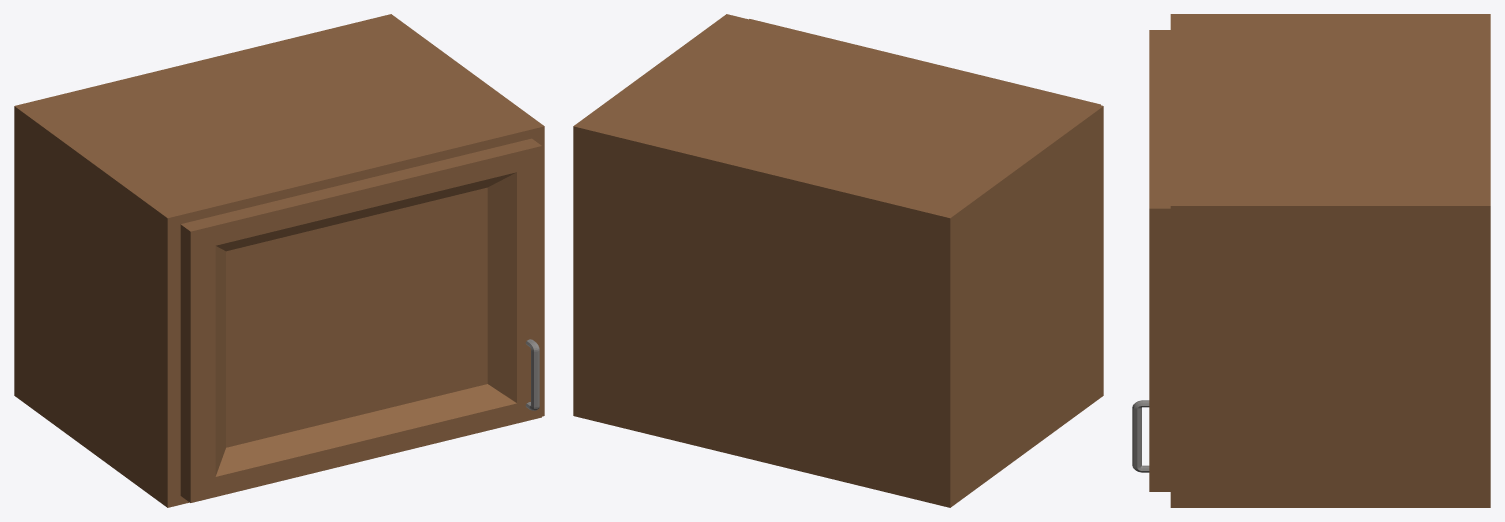
The model's file is Kitchen Tabletop_14.fbx.
The picture shows the model from 3 angles, left to right: view 1: azimuth 30°, elevation 25°; view 2: azimuth 150°, elevation 25°; view 3: azimuth 270°, elevation 25°; orthographic projection. The views are drawn at different scales.
Visible parts, largest first — view 1: Kitchen Tabletop_14; view 2: Kitchen Tabletop_14; view 3: Kitchen Tabletop_14.
Boxes of the visible parts, x1,y1,x2,y2 form: Kitchen Tabletop_14: (14,14,544,507); Kitchen Tabletop_14: (573,14,1103,507); Kitchen Tabletop_14: (1132,14,1490,507).
Bounding box in the file's own units: 54.31 × 39.87 × 42.84.
